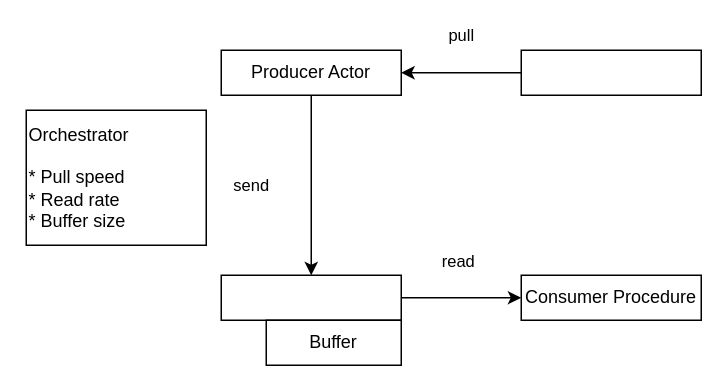
The diagram is 728 pixels wide and 392 high, and some of its shapes have lost their labels. Here are the shapes that lost their labels. From the top down, the box of each, then its label:
(520, 49, 701, 95): Producer Procedure
(220, 274, 401, 320): Consumer Actor
